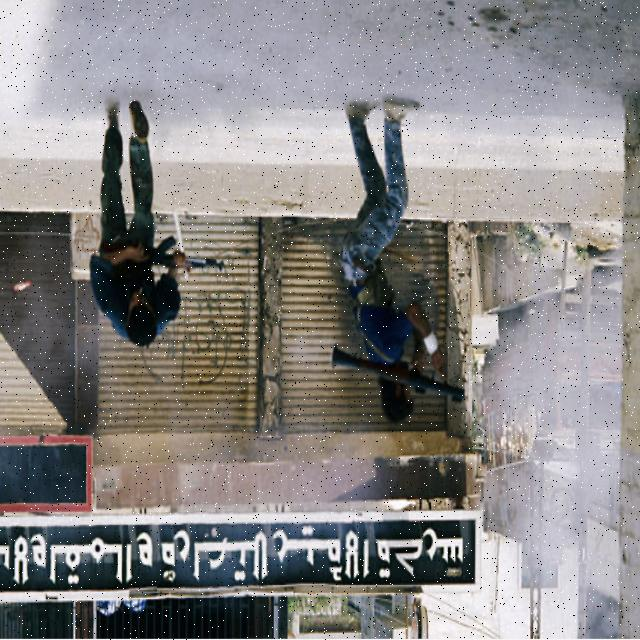bazooka: (326, 338, 473, 414)
